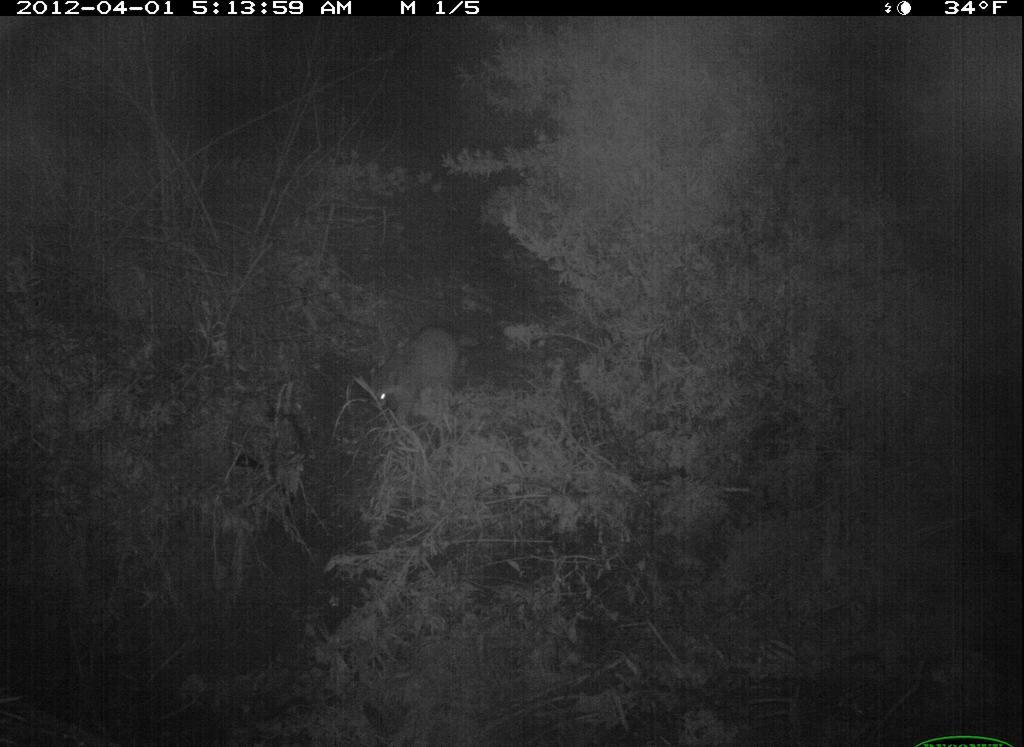raccoon: (359, 318, 487, 437)
